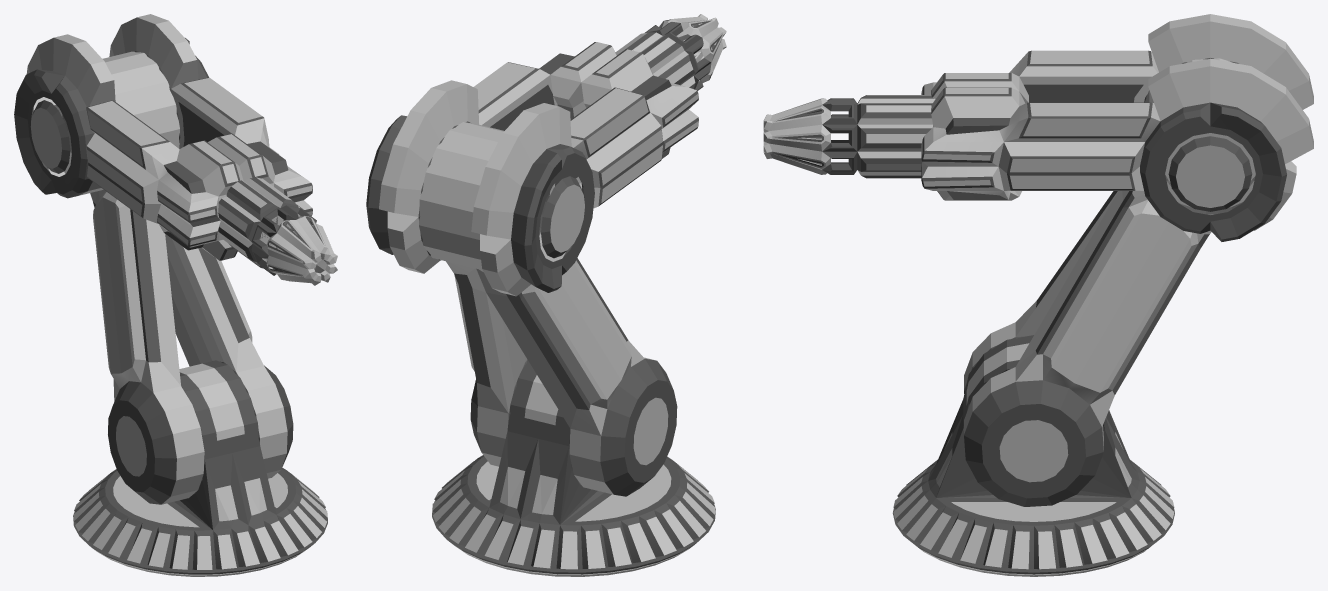
The model's file is tower_laser.dae.
3 renders of one model, left to right at view 1: azimuth 30°, elevation 25°; view 2: azimuth 150°, elevation 25°; view 3: azimuth 270°, elevation 25°, orthographic. The views are drawn at different scales.
Visible parts, largest first — view 1: tower_laser; view 2: tower_laser; view 3: tower_laser.
Boxes of the visible parts, left/top/right/bottom form: tower_laser: left=14, top=14, right=337, bottom=576; tower_laser: left=366, top=14, right=726, bottom=576; tower_laser: left=763, top=14, right=1313, bottom=576.
Bounding box in the file's own units: 8 × 15.83 × 15.03.
